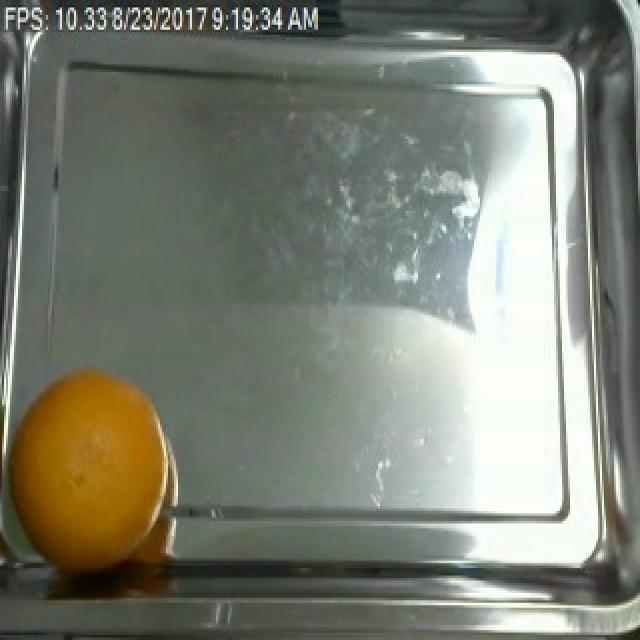Fruit: (2, 357, 176, 588)
